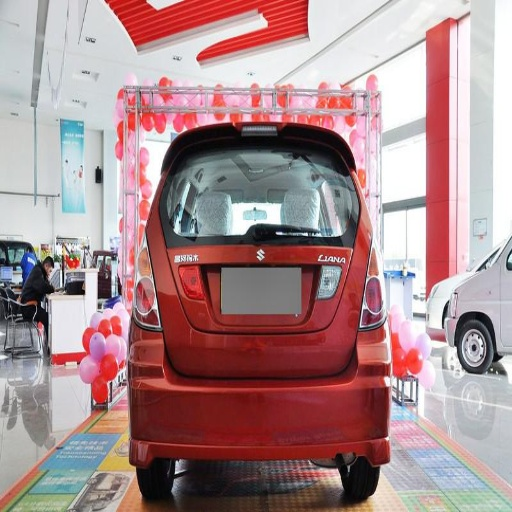back_bumper: (124, 314, 387, 460)
back_left_light: (128, 247, 160, 325)
tailgate: (148, 230, 338, 368)
trunk: (174, 240, 363, 373), (170, 329, 258, 374)
